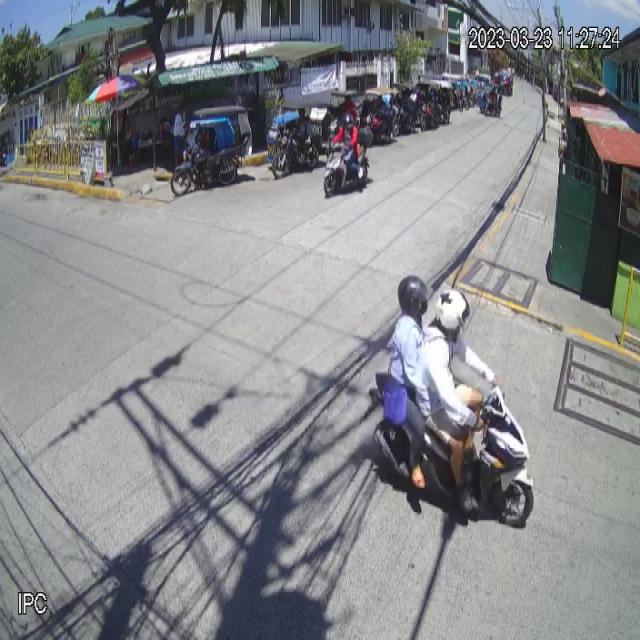Motorcycle: (360, 368, 534, 530)
